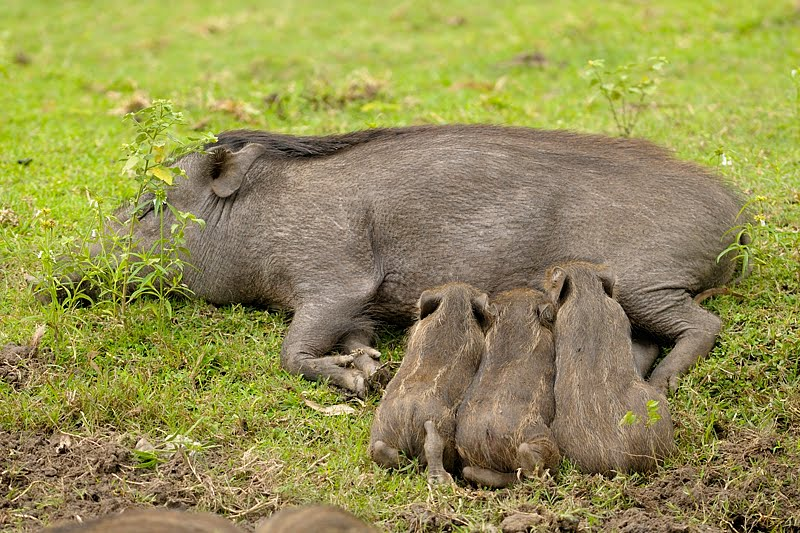wild boar: (52, 115, 769, 396), (528, 259, 700, 489), (368, 282, 493, 481), (456, 277, 557, 493)
